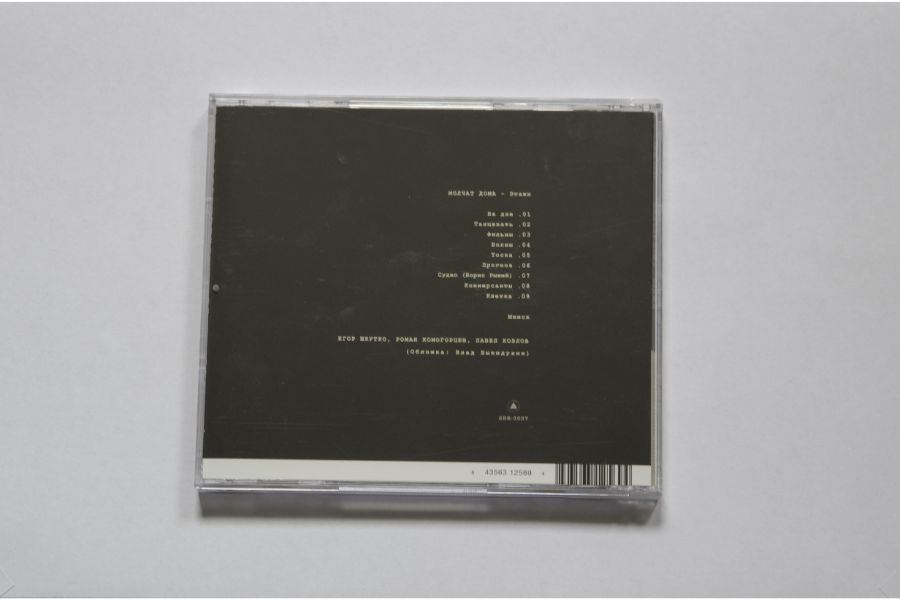album: (194, 94, 668, 505)
